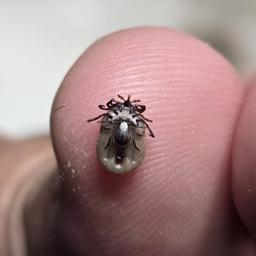Ixodes scapularis: (87, 95, 154, 174)
